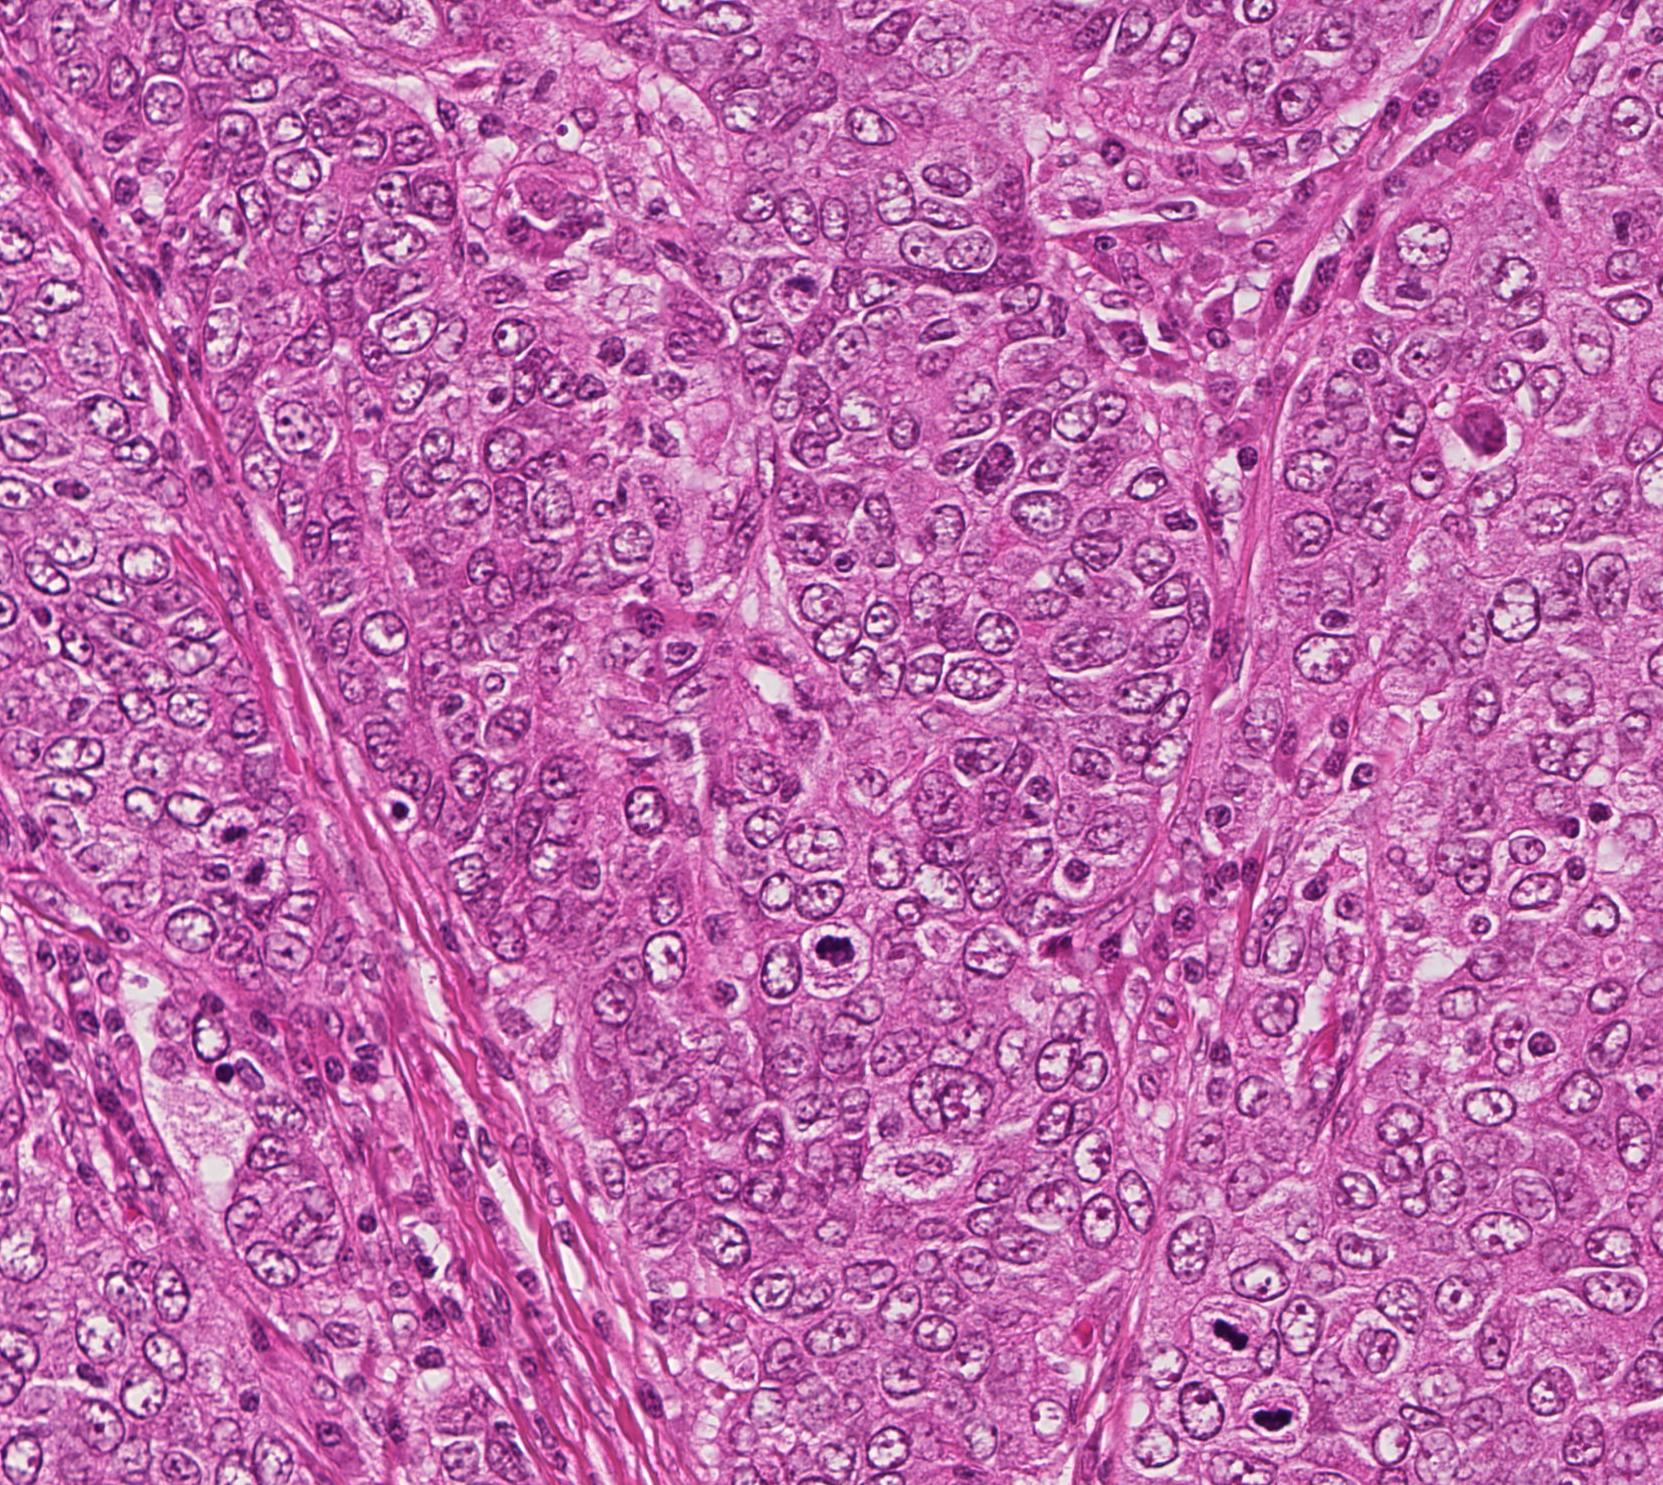mitosis: (214, 826, 274, 886), (1200, 1304, 1260, 1365), (1246, 1388, 1306, 1446)
